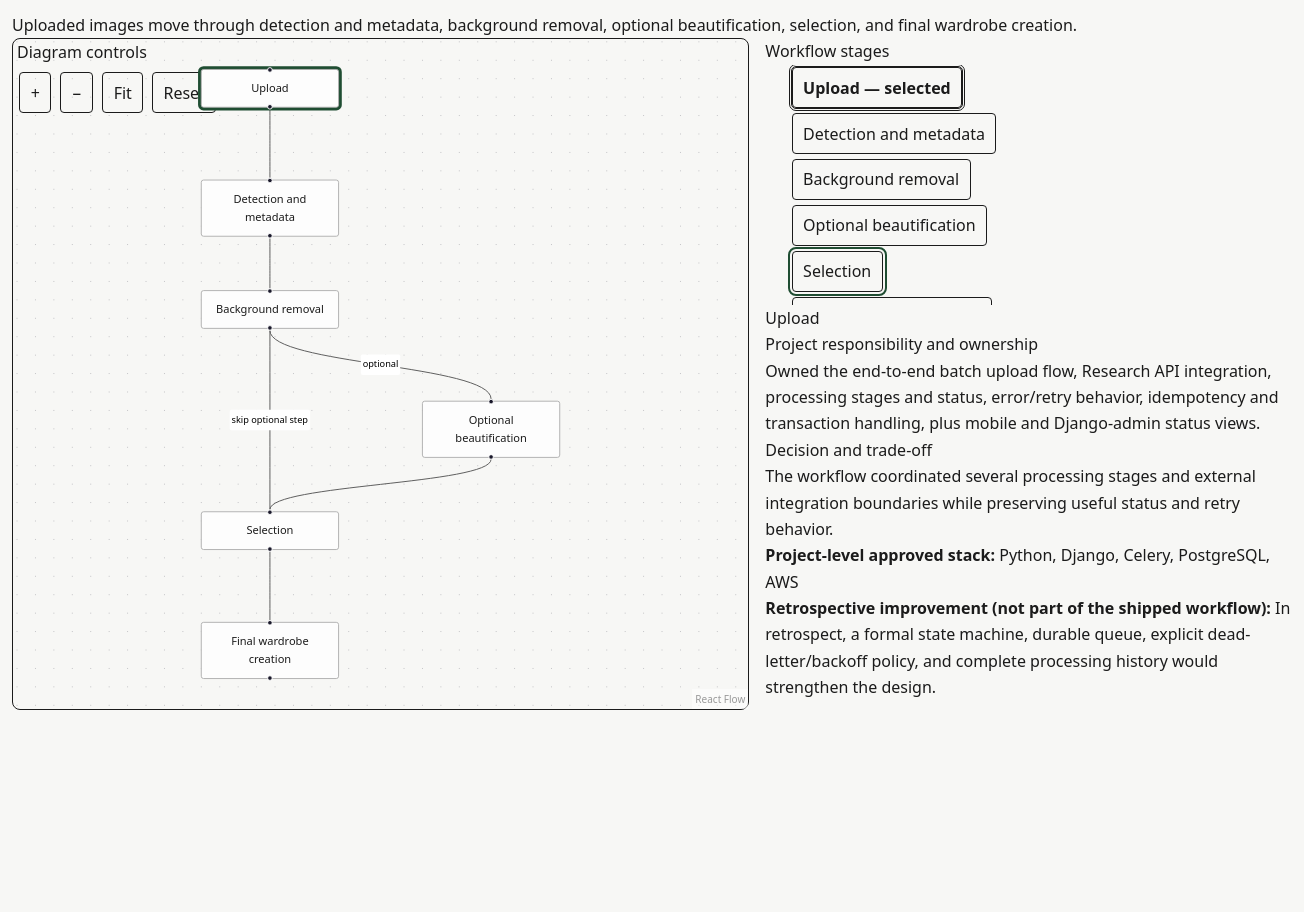
Test: ArchitectureExplorer lazy boundary › lets keyboard users select a node and exposes its detail and announcement
The image size is (1304, 912).
Press Enter
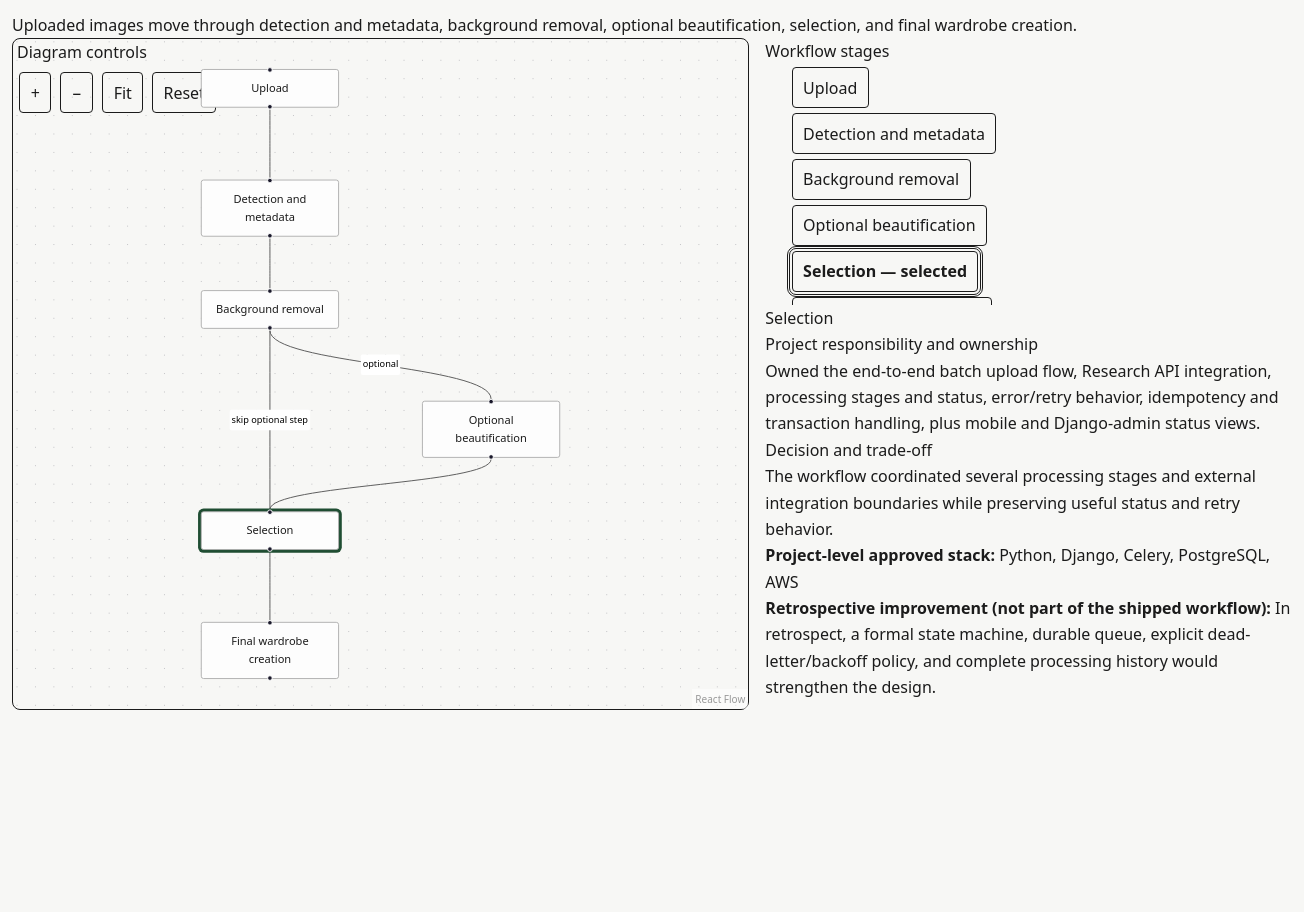
Expected: the text "Owned the end-to-end batch upload flow" is shown, [765,360,1278,434]
Expected: the heading "Selection" is shown, [765,307,833,329]
Click the element named "Select Background removal": (270, 310) [201,290,339,329]
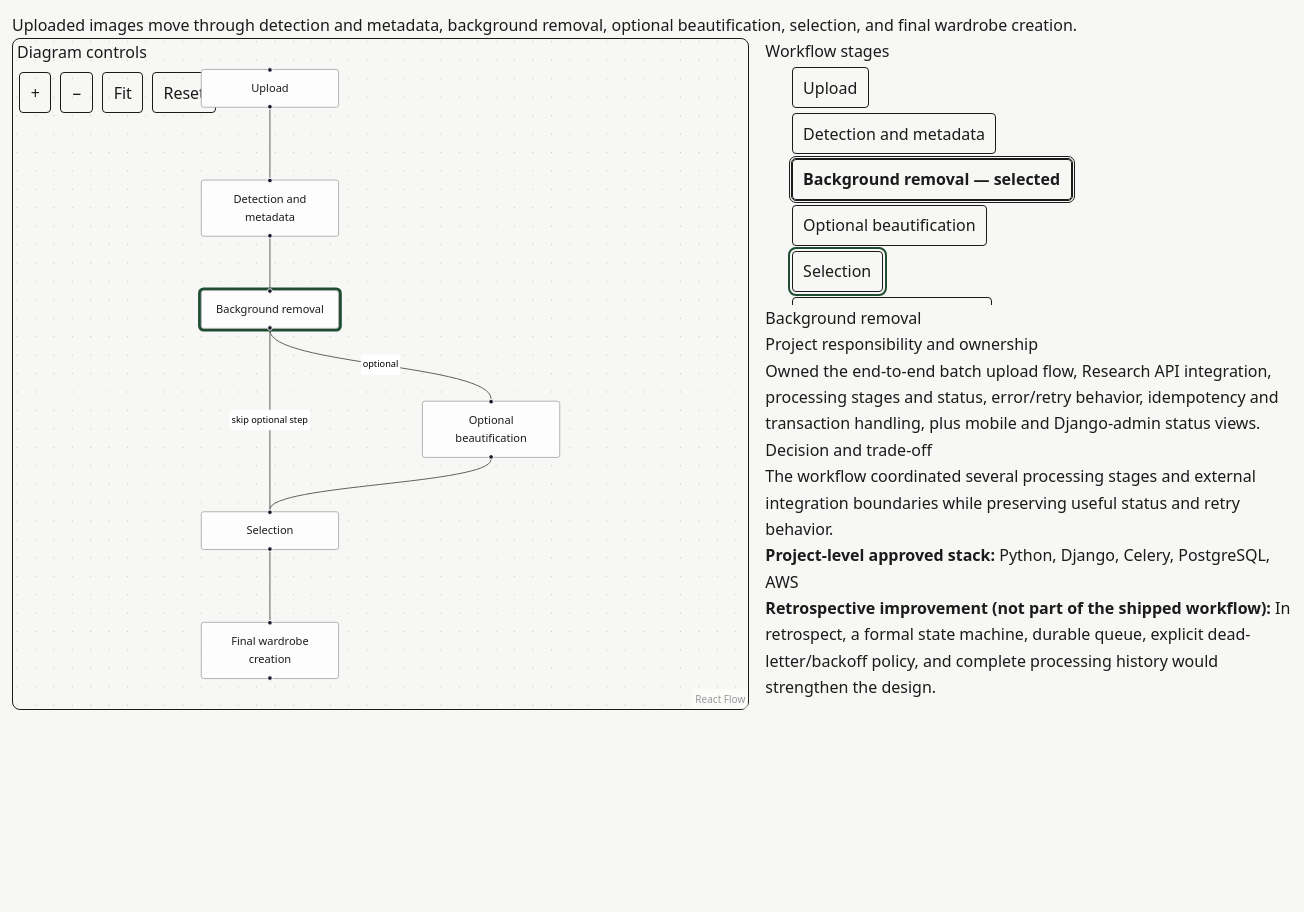
Expected: the heading "Background removal" is shown, [765,307,921,329]
